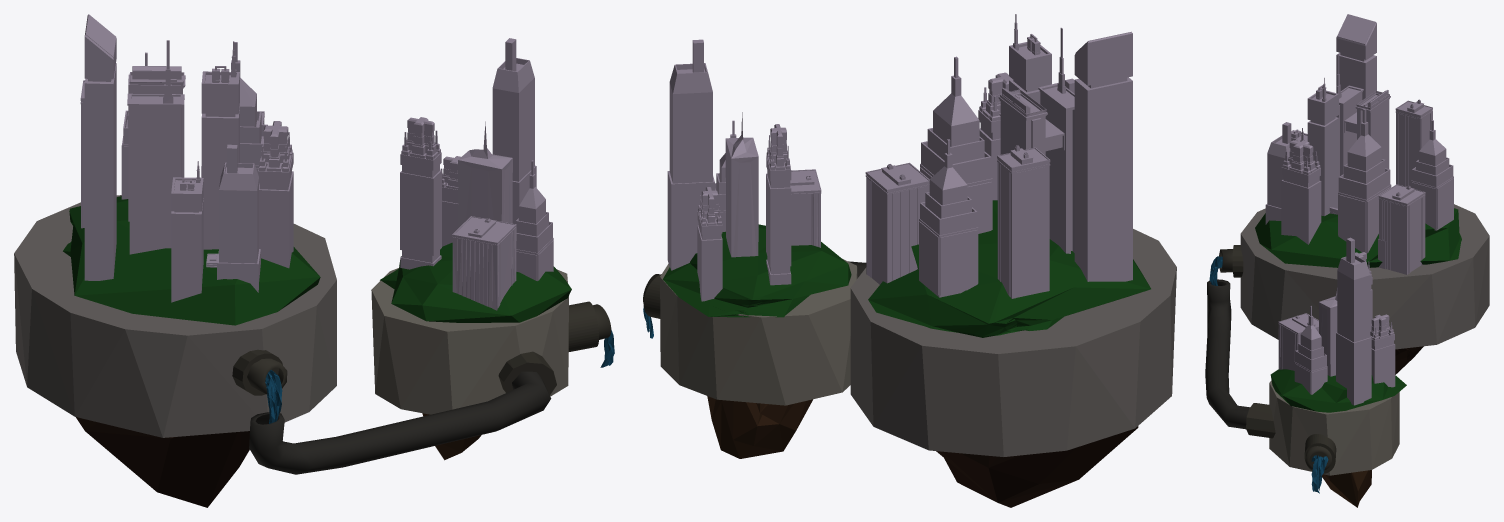
File: skycitytest.obj
3 renders of one model, left to right at view 1: azimuth 30°, elevation 25°; view 2: azimuth 150°, elevation 25°; view 3: azimuth 270°, elevation 25°, orthographic. The views are drawn at different scales.
Visible parts, largest first — view 1: Cylinder, Cylinder.001, Cube.001, BezierCurve, highrise_13.005, Highrise_16.002, Icosphere.001, Cube.002_Cube.003, Highrise_18, Highrise_8.001, Highrise_11.002, Highrise_14.002 (+13 smaller); view 2: Cylinder, Cylinder.001, Highrise_16.002, Cube.001, Cube.002_Cube.003, Highrise_8.001, Highrise_14.006, highrise_13.005, Highrise_9.001_Highrise_9.010, Icosphere.001, Highrise_14.003, Highrise_9.009 (+8 smaller); view 3: Cylinder, Cylinder.001, Highrise_8.001, Cube.001, Highrise_9.009, Highrise_14.003, BezierCurve, Highrise_18.005, highrise_13.005, Highrise_11.002, Highrise_9.001_Highrise_9.010, Highrise_16.002 (+13 smaller).
Part boxes in pixels (x1,y1,x2,y2): Cylinder: (14,195,336,437); Cylinder.001: (371,268,568,414); Cube.001: (63,196,320,325); BezierCurve: (249,371,551,474); highrise_13.005: (127,40,185,254); Highrise_16.002: (84,14,116,280); Icosphere.001: (76,417,249,507); Cube.002_Cube.003: (380,242,571,322); Highrise_18: (400,117,441,269); Highrise_8.001: (492,38,536,224); Highrise_11.002: (201,41,239,249); Highrise_14.002: (452,216,516,310); Cylinder: (850,229,1176,456); Cylinder.001: (660,259,857,405); Highrise_16.002: (1074,31,1132,281); Cube.001: (868,200,1150,337); Cube.002_Cube.003: (663,224,851,317); Highrise_8.001: (667,39,714,270); Highrise_14.006: (997,145,1050,298); highrise_13.005: (998,27,1074,253); Highrise_9.001_Highrise_9.010: (919,139,978,297); Icosphere.001: (936,426,1138,507); Highrise_14.003: (865,162,929,284); Highrise_9.009: (920,56,992,233); Cylinder: (1240,204,1489,349); Cylinder.001: (1269,380,1399,475); Highrise_8.001: (1336,237,1371,405); Cube.001: (1255,208,1461,267); Highrise_9.009: (1338,108,1391,253); Highrise_14.003: (1378,184,1425,274); BezierCurve: (1205,279,1249,429); Highrise_18.005: (1281,140,1321,244); highrise_13.005: (1336,53,1390,176); Highrise_11.002: (1307,77,1338,215); Highrise_9.001_Highrise_9.010: (1411,120,1453,230); Highrise_16.002: (1336,14,1376,99).
Bounding box in the file's own units: 2.42 × 2.22 × 1.59.
